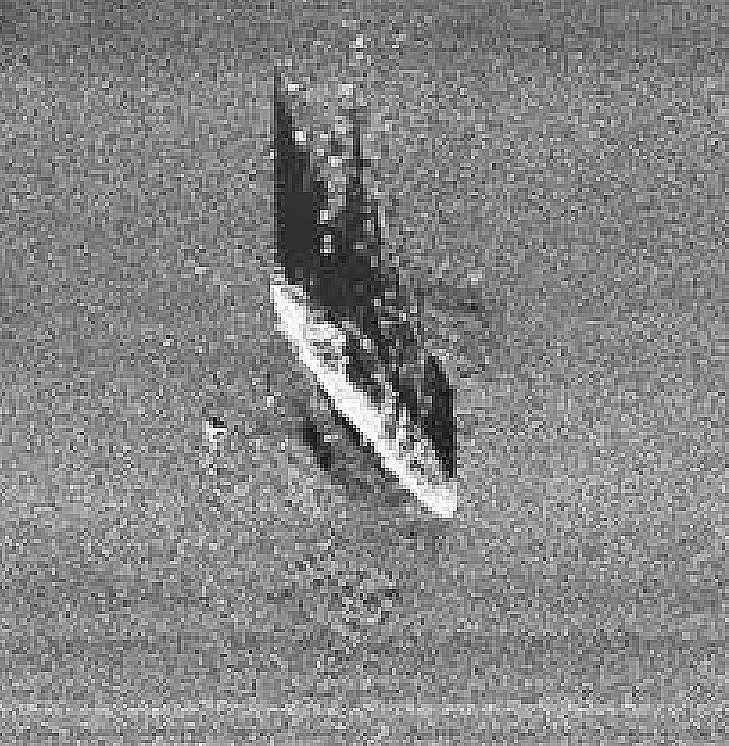ship: (267, 271, 459, 521)
